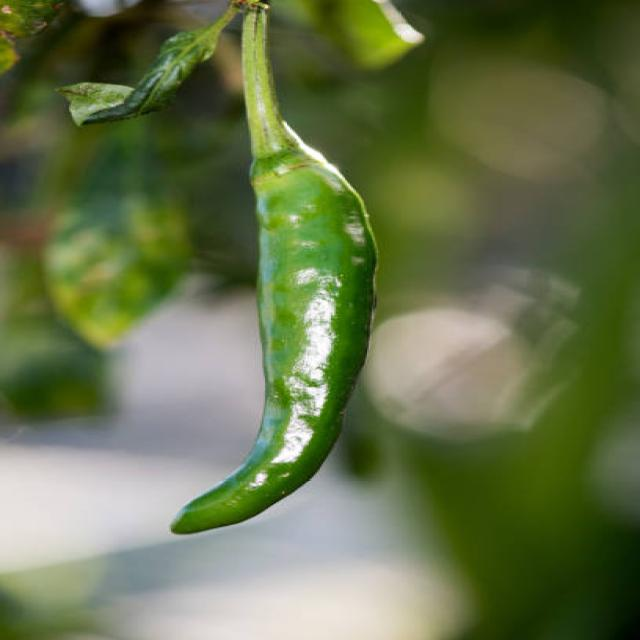Unripe: (171, 155, 375, 533)
